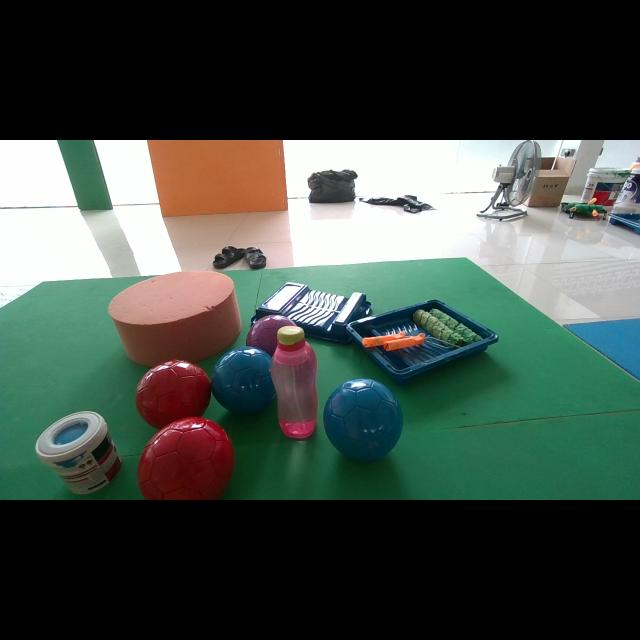B: (324, 378, 402, 461), (211, 346, 275, 414)
P: (246, 315, 295, 356)
R: (138, 418, 234, 500), (135, 360, 211, 429)
